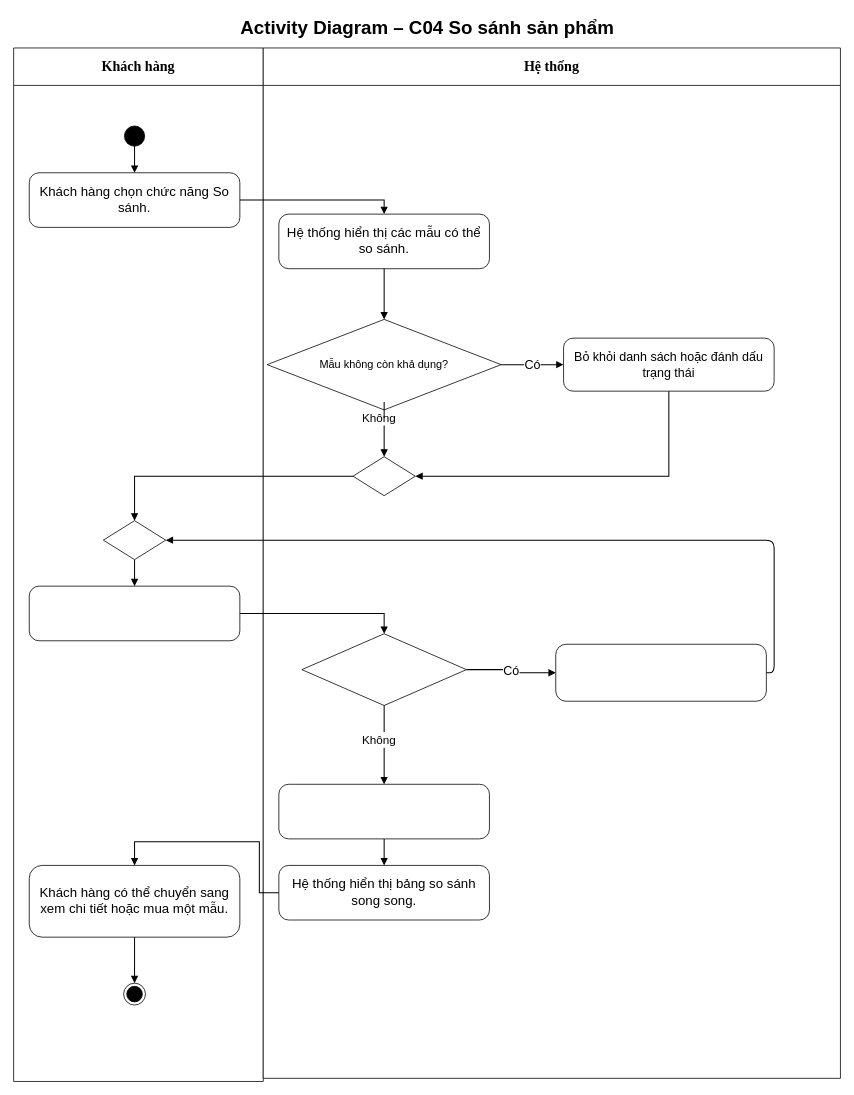
Some shapes in this 854 by 1095 pixel diagram are drawn without their labels. The box of each missing label's shape, as (x1, y1, x2, y2) in pixels:
Hệ thống tải thông số của từng mẫu.: (278, 784, 489, 839)
Khách hàng chọn các mẫu cần đối chiếu.: (28, 585, 240, 641)
Số mẫu vượt giới hạn giao diện?: (301, 633, 466, 706)
Yêu cầu bỏ bớt mẫu: (555, 644, 766, 701)
